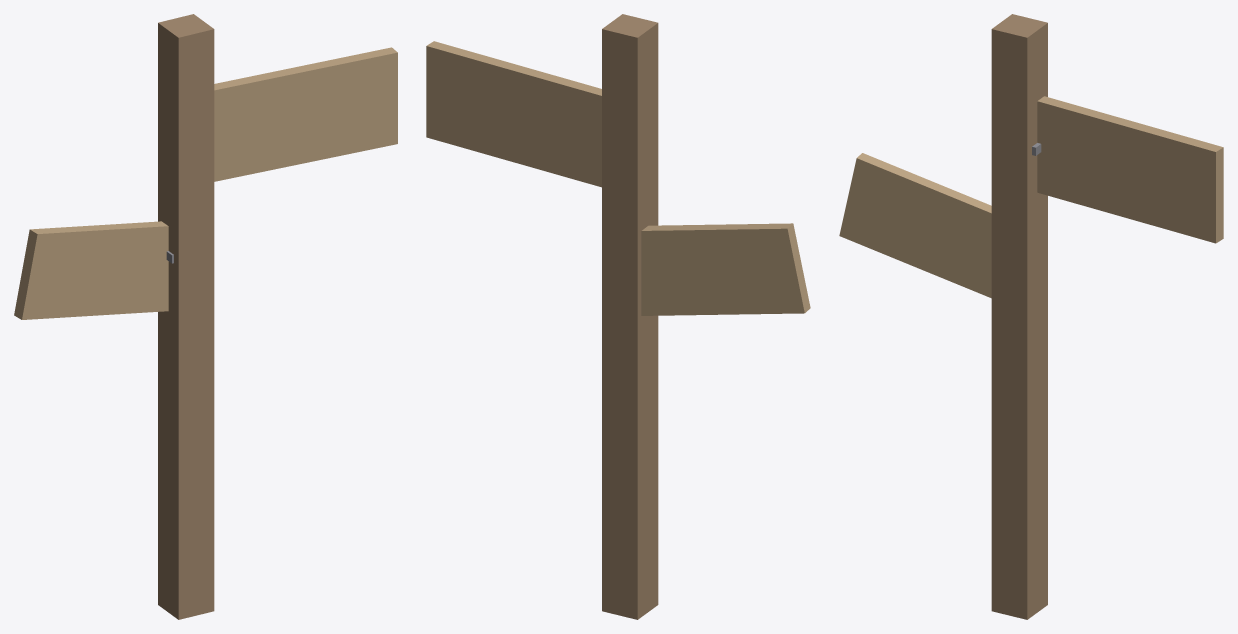
File: 40-Infraestructura_cartel_indicador.glb
The picture shows the model from 3 angles, left to right: view 1: azimuth 30°, elevation 25°; view 2: azimuth 150°, elevation 25°; view 3: azimuth 330°, elevation 25°; orthographic projection.
Parts seen in each view (by area): view 1: SM_Cartel_M_Madera_Poste, SM_Cartel_M_Madera_Tabla; view 2: SM_Cartel_M_Madera_Poste, SM_Cartel_M_Madera_Tabla; view 3: SM_Cartel_M_Madera_Poste, SM_Cartel_M_Madera_Tabla.
Boxes of the visible parts, <box> form: SM_Cartel_M_Madera_Poste: <box>158,14,214,619</box>; SM_Cartel_M_Madera_Tabla: <box>14,47,397,319</box>; SM_Cartel_M_Madera_Poste: <box>602,14,658,619</box>; SM_Cartel_M_Madera_Tabla: <box>426,41,810,315</box>; SM_Cartel_M_Madera_Poste: <box>991,14,1047,619</box>; SM_Cartel_M_Madera_Tabla: <box>839,96,1223,298</box>.
Size of the model in its own units: 0.9518 by 1.4 by 0.09.
